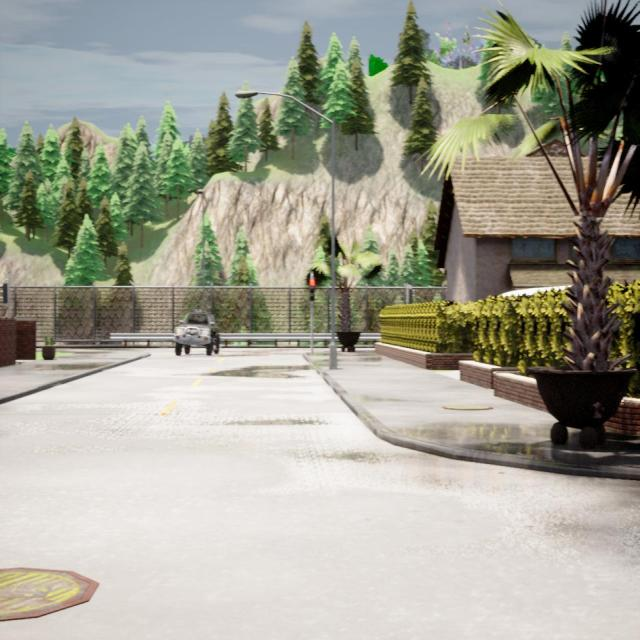Vehicle: (174, 310, 220, 355)
traffic_light: (308, 278, 316, 302), (1, 282, 8, 303), (408, 289, 414, 302)
